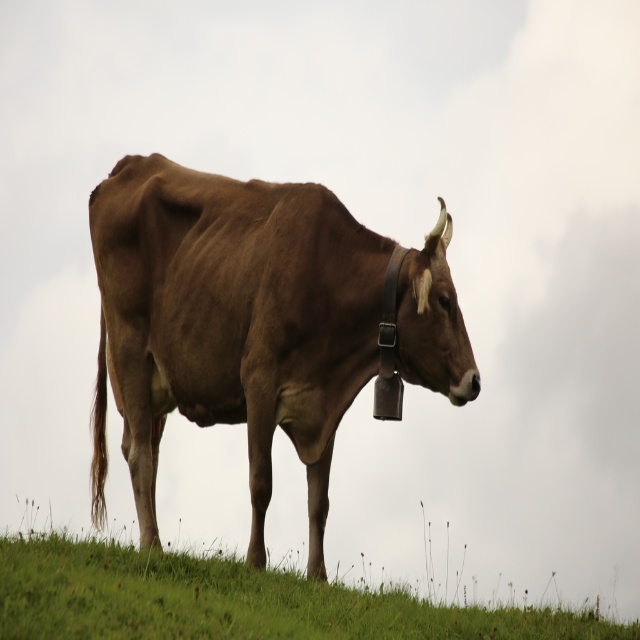Cattle: (88, 153, 481, 583)
